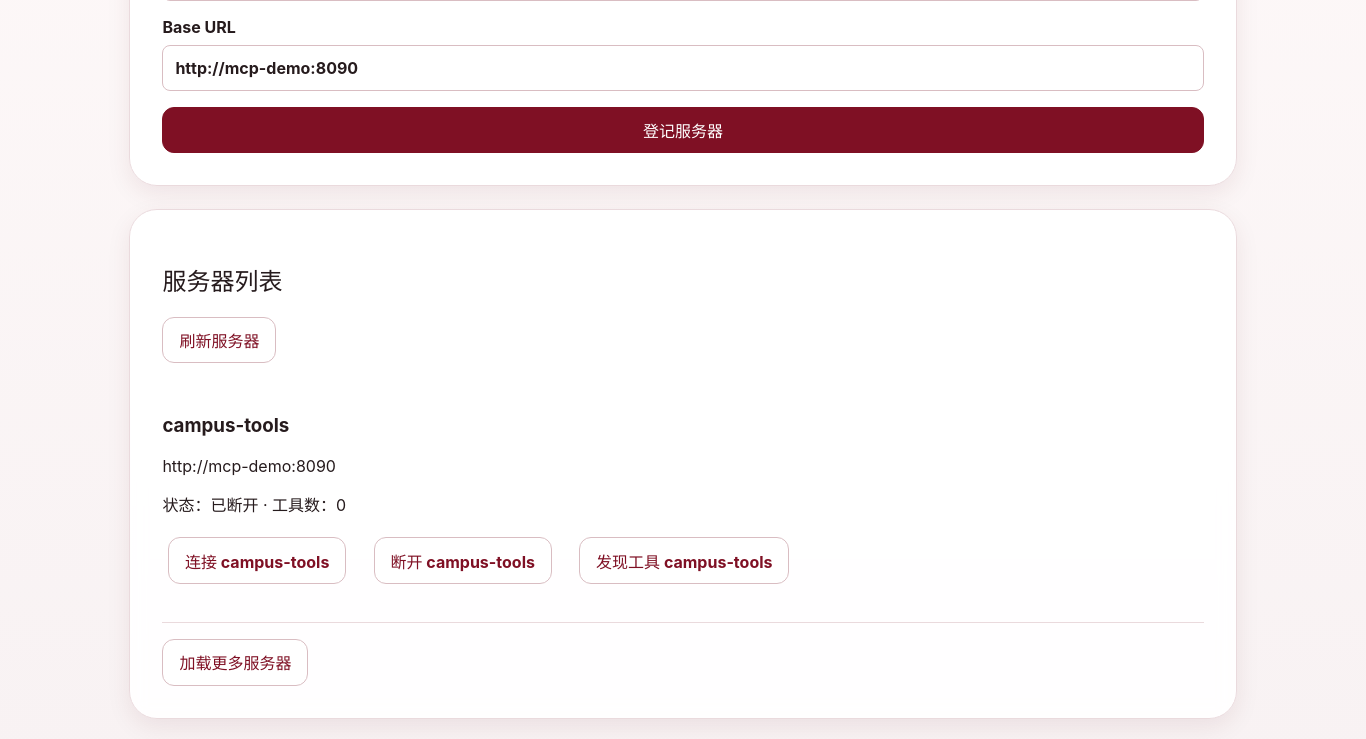
Test: class-shared MCP management › paginates server listings with the returned cursor
(page scrolled)
Click the button "加载更多服务器" at (235, 662), box [162,639,308,686]
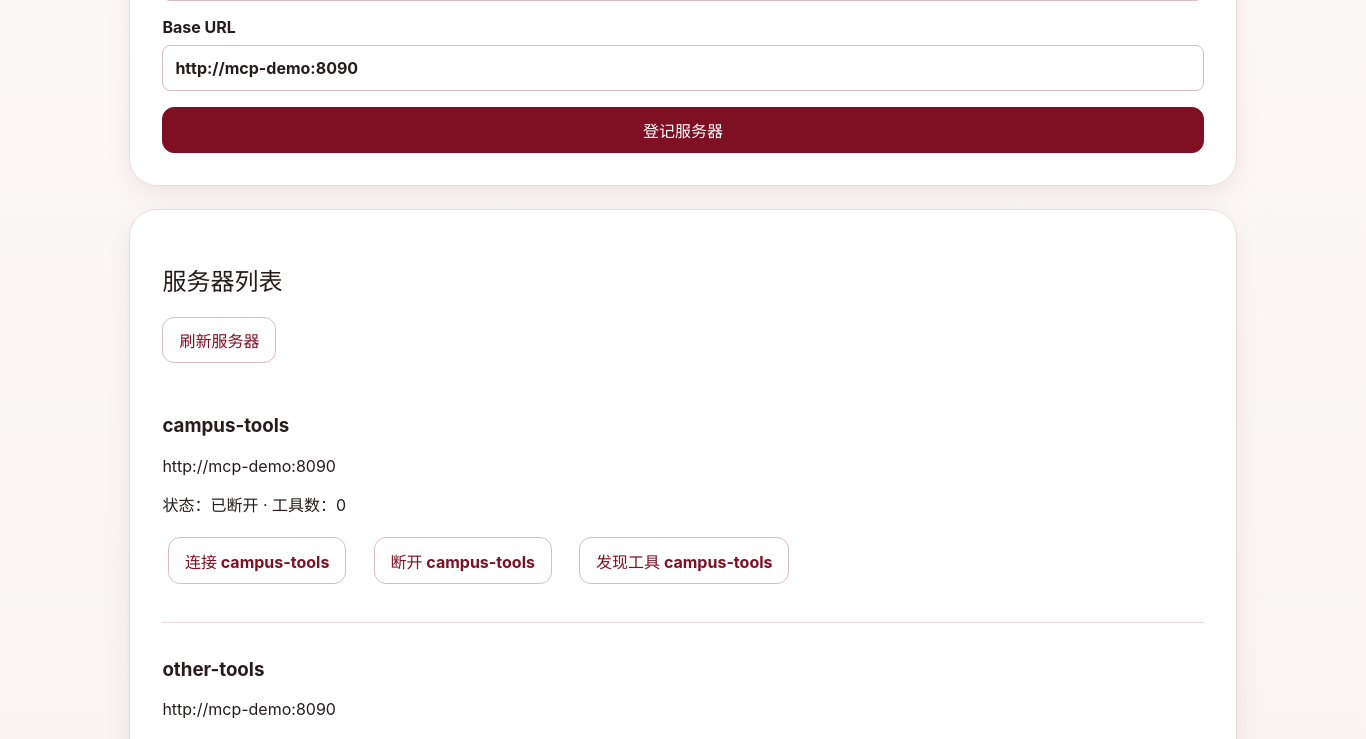
Expected: the button "加载更多服务器" is not shown
Expected: the heading "other-tools" is shown, [162,658,264,680]
